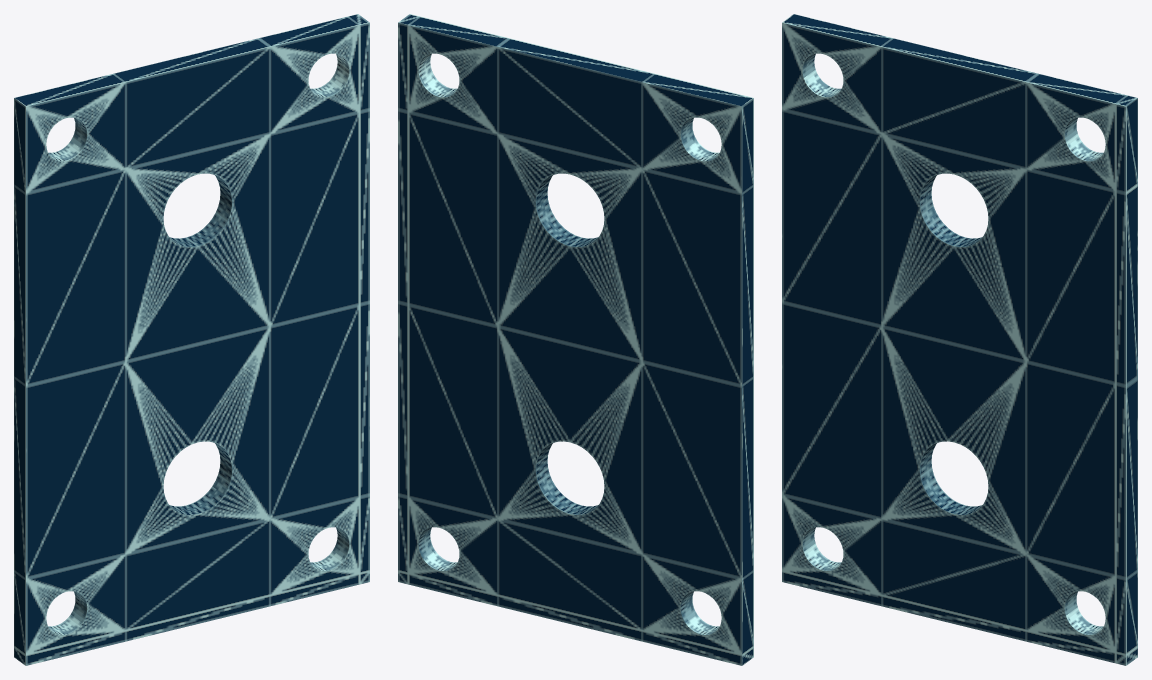
The model's file is Mold4-Ejector plate-M.glb.
3 renders of one model, left to right at view 1: azimuth 30°, elevation 25°; view 2: azimuth 150°, elevation 25°; view 3: azimuth 330°, elevation 25°, orthographic.
Parts seen in each view (by area): view 1: GERGTGQ - EJECTEUR-3; view 2: GERGTGQ - EJECTEUR-3; view 3: GERGTGQ - EJECTEUR-3.
Boxes of the visible parts, bbox=[...] form: GERGTGQ - EJECTEUR-3: bbox=[14, 14, 369, 665]; GERGTGQ - EJECTEUR-3: bbox=[398, 14, 753, 665]; GERGTGQ - EJECTEUR-3: bbox=[782, 14, 1137, 665].
Bounding box in the file's own units: 5.98 × 9.29 × 0.3561.
1 material, 1 textured.
